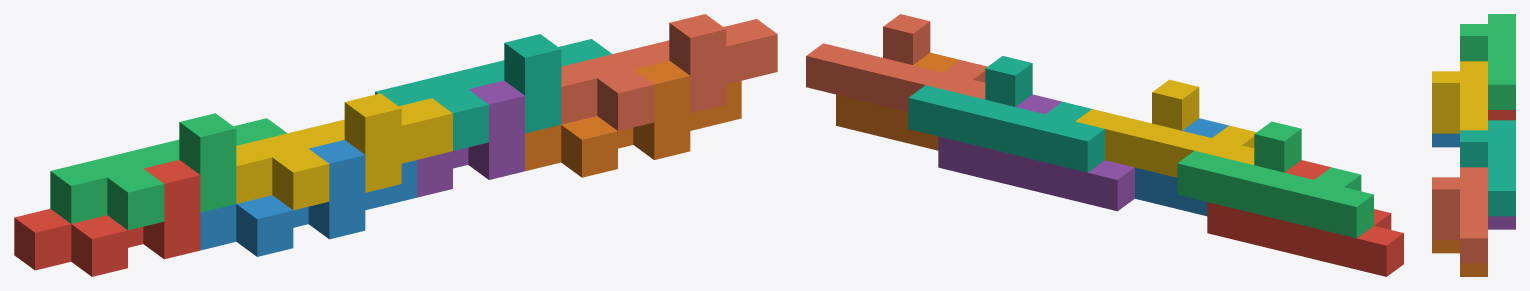
The model's file is tiling.obj.
3 renders of one model, left to right at view 1: azimuth 30°, elevation 25°; view 2: azimuth 150°, elevation 25°; view 3: azimuth 270°, elevation 25°, orthographic. The views are drawn at different scales.
Parts seen in each view (by area): view 1: copy_1_domain_4, copy_1_domain_8, copy_1_domain_3, copy_1_domain_1, copy_1_domain_2, copy_1_domain_6, copy_1_domain_7, copy_1_domain_5; view 2: copy_1_domain_3, copy_1_domain_7, copy_1_domain_8, copy_1_domain_4, copy_1_domain_1, copy_1_domain_5, copy_1_domain_6, copy_1_domain_2; view 3: copy_1_domain_8, copy_1_domain_7, copy_1_domain_3, copy_1_domain_4, copy_1_domain_6, copy_1_domain_2, copy_1_domain_5, copy_1_domain_1.
Part boxes in pixels (x1=…): copy_1_domain_4: x1=236, y1=93, x2=452, y2=210; copy_1_domain_8: x1=561, y1=14, x2=777, y2=130; copy_1_domain_3: x1=50, y1=113, x2=287, y2=230; copy_1_domain_1: x1=14, y1=160, x2=200, y2=276; copy_1_domain_2: x1=200, y1=140, x2=416, y2=256; copy_1_domain_6: x1=525, y1=60, x2=741, y2=177; copy_1_domain_7: x1=375, y1=34, x2=611, y2=150; copy_1_domain_5: x1=417, y1=80, x2=524, y2=197; copy_1_domain_3: x1=1177, y1=121, x2=1373, y2=238; copy_1_domain_7: x1=908, y1=56, x2=1104, y2=172; copy_1_domain_8: x1=806, y1=14, x2=987, y2=111; copy_1_domain_4: x1=1075, y1=79, x2=1256, y2=177; copy_1_domain_1: x1=1207, y1=160, x2=1403, y2=276; copy_1_domain_5: x1=938, y1=94, x2=1134, y2=211; copy_1_domain_6: x1=836, y1=52, x2=959, y2=150; copy_1_domain_2: x1=1135, y1=118, x2=1228, y2=216; copy_1_domain_8: x1=1432, y1=167, x2=1487, y2=263; copy_1_domain_7: x1=1460, y1=120, x2=1515, y2=216; copy_1_domain_3: x1=1460, y1=14, x2=1515, y2=109; copy_1_domain_4: x1=1432, y1=61, x2=1487, y2=133; copy_1_domain_6: x1=1432, y1=240, x2=1487, y2=276; copy_1_domain_2: x1=1432, y1=133, x2=1459, y2=147; copy_1_domain_5: x1=1488, y1=216, x2=1515, y2=229; copy_1_domain_1: x1=1488, y1=110, x2=1515, y2=120.
Bounding box in the file's own units: 20 × 3 × 3.
